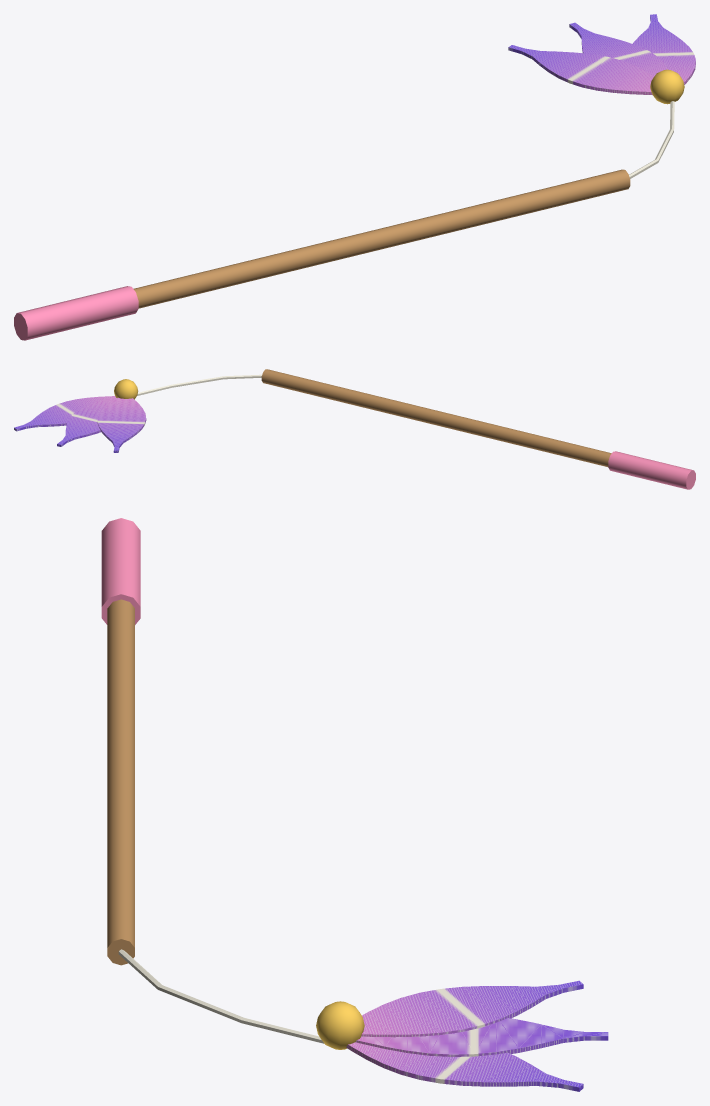
The model's file is Toy_FeatherWand.fbx.
3 views of the same model, one above another, from view 1: azimuth 30°, elevation 25°; view 2: azimuth 150°, elevation 25°; view 3: azimuth 270°, elevation 25° (orthographic). The views are drawn at different scales.
Visible parts, largest first — view 1: Stick, Feathers; view 2: Stick, Feathers, String; view 3: Feathers, Stick, String.
Part boxes in pixels (x1,y1,x2,y2): Stick: [14, 169, 630, 340]; Feathers: [508, 14, 695, 104]; Stick: [261, 369, 695, 489]; Feathers: [14, 379, 146, 452]; String: [137, 374, 261, 395]; Feathers: [316, 980, 608, 1091]; Stick: [101, 518, 140, 965]; String: [118, 949, 324, 1043].
Bounding box in the file's own units: 2.67 × 0.112 × 1.04.
Materials: 1 (1 with a texture image).
